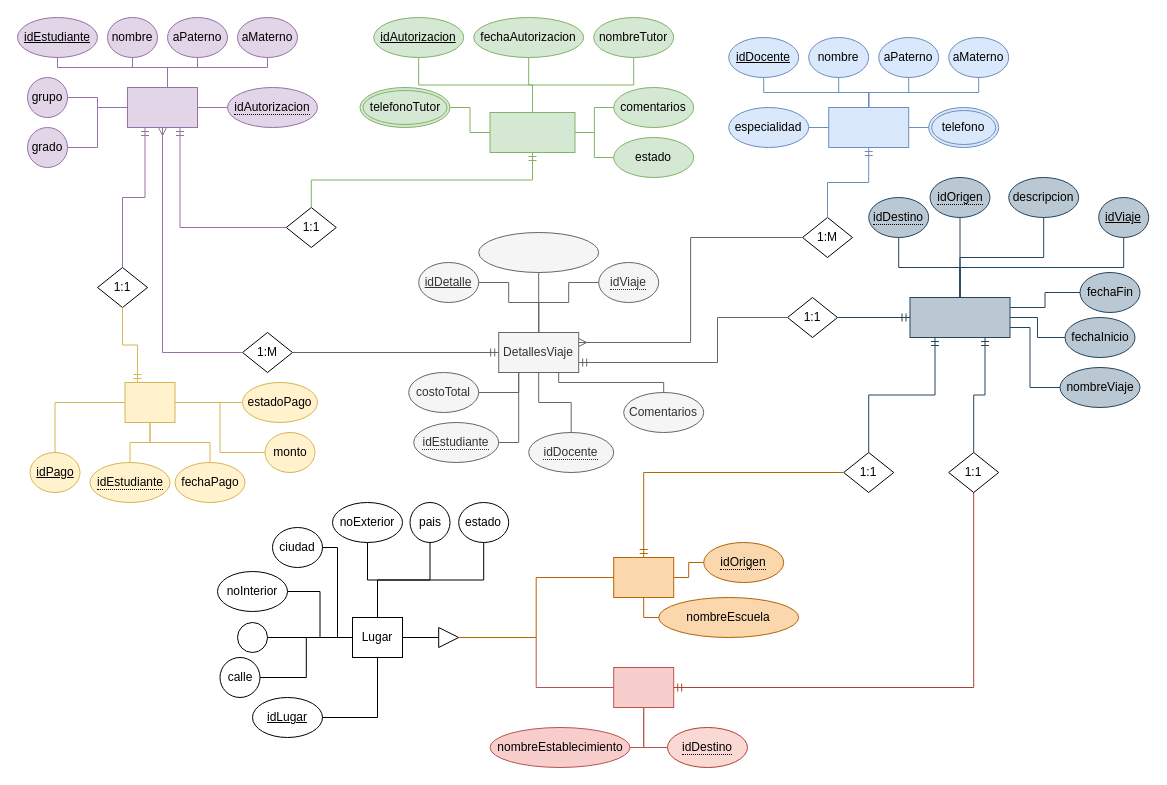
This 1167x785 diagram has some shape labels left out. Here are the shapes that lost their labels. From the top down, the centre of each, then its label:
At (x=162, y=107): "Estudiantes".
At (x=868, y=127): "Docentes".
At (x=532, y=132): "Autorizaciones".
At (x=538, y=252): "estadoParticipacion".
At (x=959, y=317): "Viajes".
At (x=149, y=402): "Pagos".
At (x=643, y=577): "Origenes".
At (x=252, y=637): "CP".
At (x=643, y=687): "Destinos".
